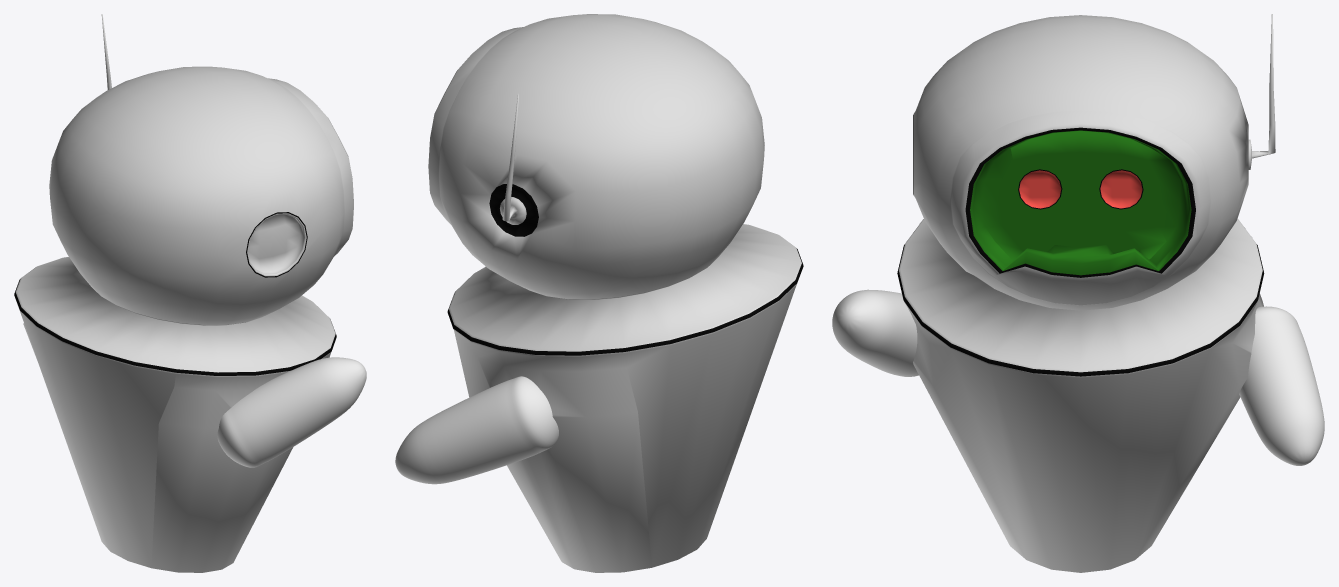
File: sparki2.glb
The picture shows the model from 3 angles, left to right: view 1: azimuth 30°, elevation 25°; view 2: azimuth 150°, elevation 25°; view 3: azimuth 270°, elevation 25°; orthographic projection. The views are drawn at different scales.
Visible parts, largest first — view 1: Sphere; view 2: Sphere; view 3: Sphere.
Boxes of the visible parts, box(x1,y1,x2,y2) form: Sphere: box(14, 14, 366, 572); Sphere: box(395, 14, 803, 572); Sphere: box(832, 14, 1324, 572).
Bounding box in the file's own units: 1.79 × 2.97 × 2.44.
